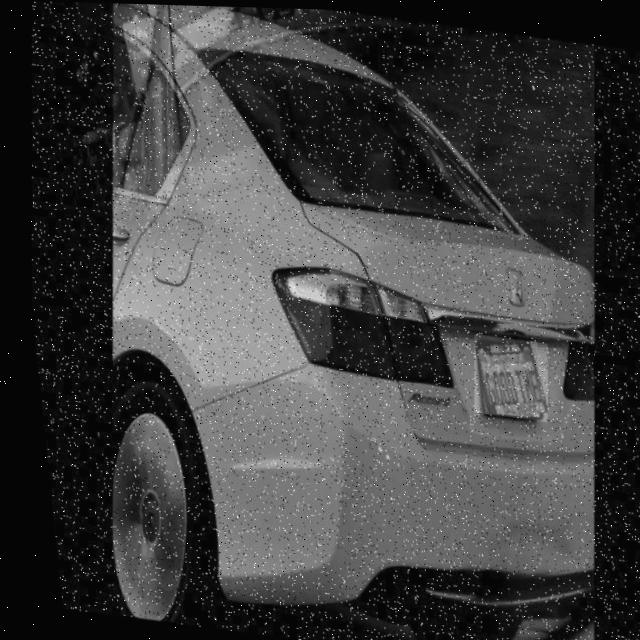LicensePlate: (466, 338, 538, 412)
